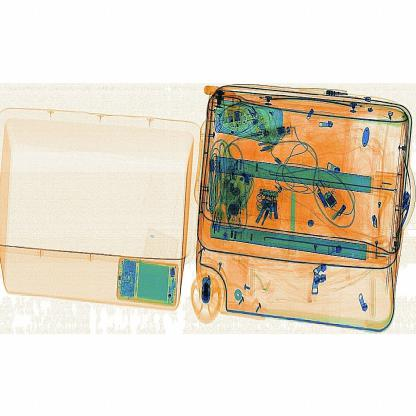pliers: (285, 181, 302, 260)
